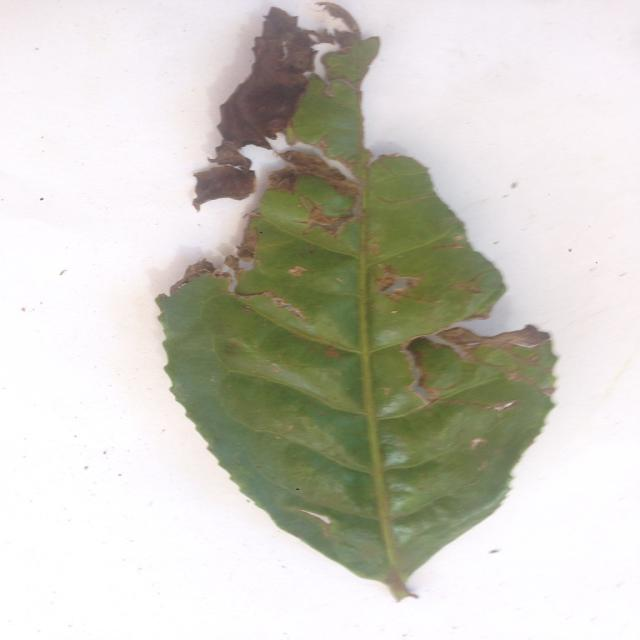Brown Blight: (130, 0, 553, 604)
